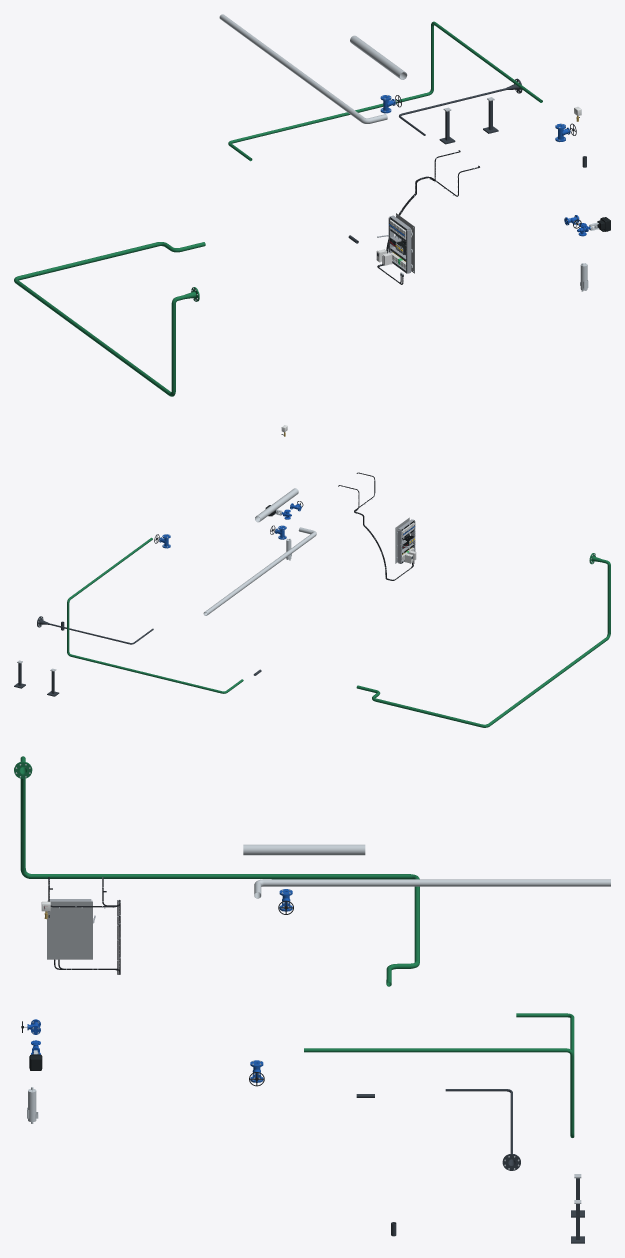
The model's file is s4000-6-DmJS9my3.glb.
The picture shows the model from 3 angles, top to bottom: view 1: azimuth 30°, elevation 25°; view 2: azimuth 150°, elevation 25°; view 3: azimuth 270°, elevation 25°; orthographic projection. The views are drawn at different scales.
Parts seen in each view (by area): view 1: deaerator_feed / green, to_economizer / green, cabinet_interior / cabinet_interior_0.npz, safety_vent_2 / steel, steam_delivery / steel; view 2: deaerator_feed / green, to_economizer / green, safety_vent_2 / steel, cabinet_interior / cabinet_interior_0.npz; view 3: deaerator_feed / green, safety_vent_2 / steel, cabinet_interior / cabinet_interior_0.npz, to_economizer / green, steam_delivery / steel.
Part boxes in pixels (x1=…): deaerator_feed / green: x1=14, y1=242, x2=205, y2=396; to_economizer / green: x1=228, y1=21, x2=542, y2=161; cabinet_interior / cabinet_interior_0.npz: x1=377, y1=213, x2=414, y2=273; safety_vent_2 / steel: x1=219, y1=14, x2=387, y2=123; steam_delivery / steel: x1=350, y1=35, x2=407, y2=79; deaerator_feed / green: x1=356, y1=553, x2=610, y2=727; to_economizer / green: x1=67, y1=537, x2=243, y2=693; safety_vent_2 / steel: x1=203, y1=527, x2=316, y2=615; cabinet_interior / cabinet_interior_0.npz: x1=395, y1=517, x2=415, y2=563; deaerator_feed / green: x1=14, y1=756, x2=419, y2=986; safety_vent_2 / steel: x1=254, y1=879, x2=610, y2=898; cabinet_interior / cabinet_interior_0.npz: x1=47, y1=899, x2=95, y2=959; to_economizer / green: x1=304, y1=1013, x2=574, y2=1137; steam_delivery / steel: x1=243, y1=844, x2=365, y2=855.
Bounding box in the file's own units: 8.51 × 3.06 × 6.32.
